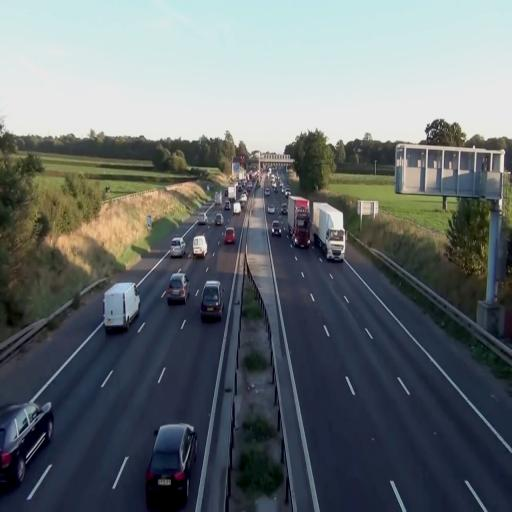vehicle: (0, 397, 54, 488), (145, 422, 198, 507), (311, 202, 346, 262), (311, 202, 346, 261), (102, 282, 140, 332), (289, 195, 311, 249), (200, 280, 222, 322), (166, 271, 188, 306), (192, 236, 208, 260), (170, 238, 186, 256), (224, 227, 236, 246), (271, 220, 282, 237)
